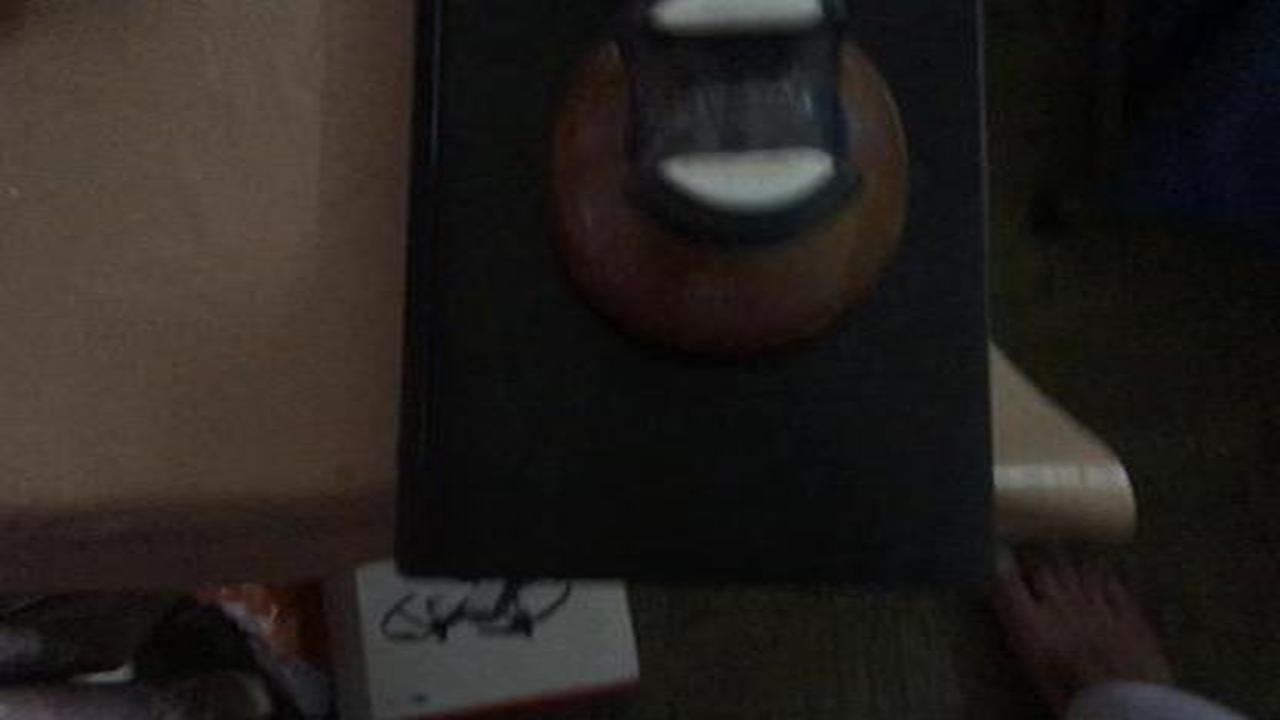insulator_pin: (505, 14, 914, 364)
